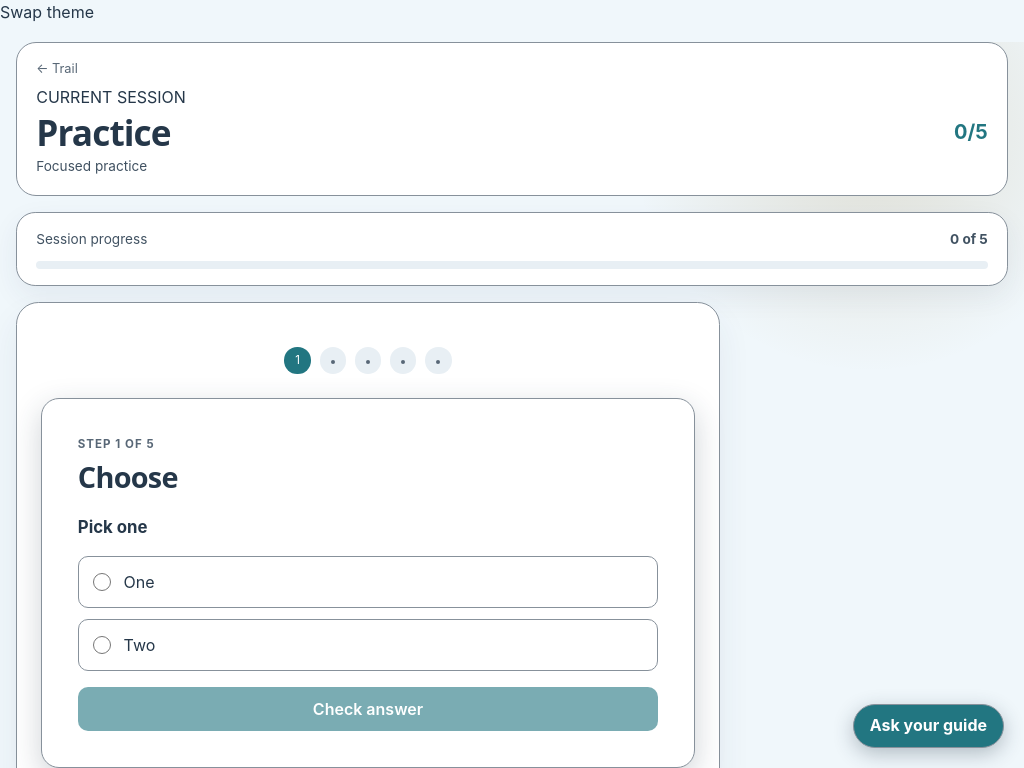
Session parity › keeps the session to one activity and opens the guide only on request
This screenshot has width=1024, height=768.
Expected: the radio button labelled "One" is shown, x1=93 y1=573 x2=111 y2=591
Click the button "Ask your guide".
click(928, 726)  # box x1=853 y1=704 x2=1004 y2=748
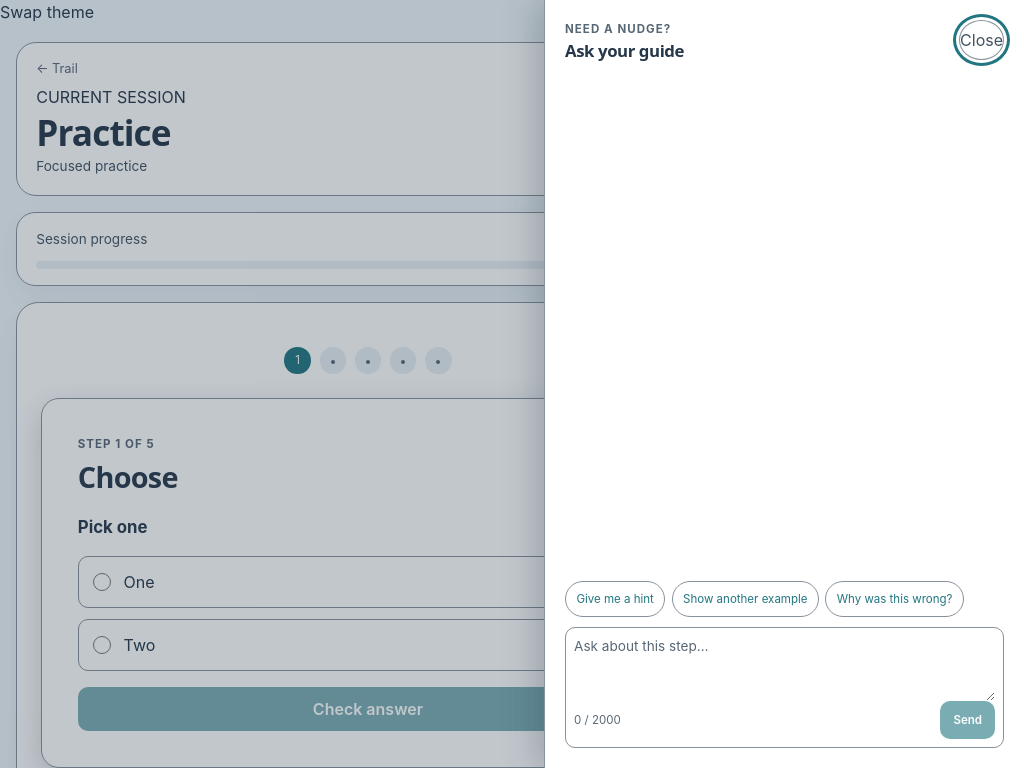
Expected: the dialog "Ask your guide" is shown, x1=544 y1=0 x2=1023 y2=767
